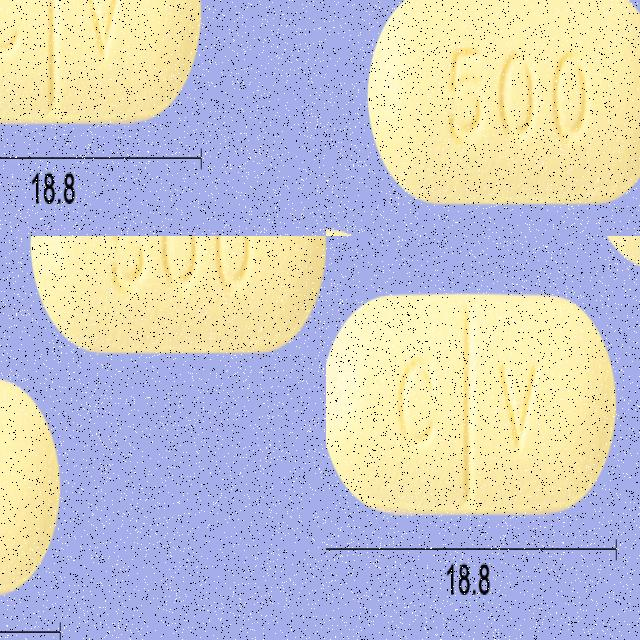Arava: (0, 0, 148, 132), (184, 0, 326, 126)
Bydoxy: (44, 236, 297, 607)
Clratomin - 500mg: (369, 0, 640, 236)
Cravit: (326, 291, 615, 514)
